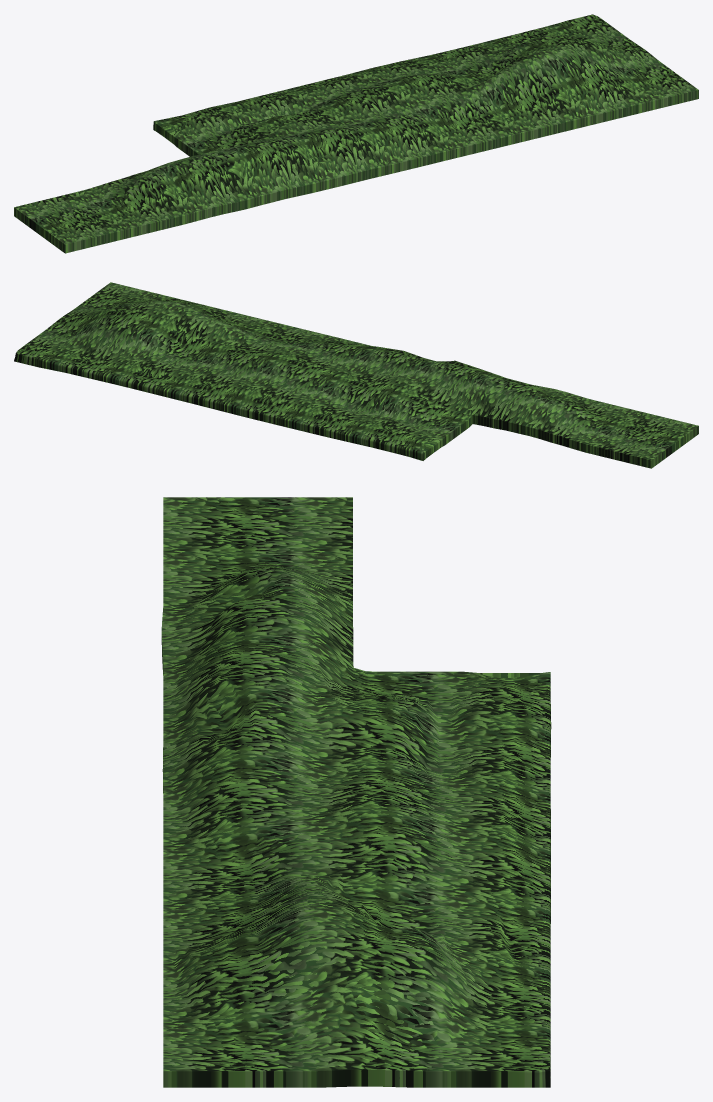
Rendered from Grass_Hill.fbx.
The picture shows the model from 3 angles, top to bottom: view 1: azimuth 30°, elevation 25°; view 2: azimuth 150°, elevation 25°; view 3: azimuth 270°, elevation 25°; orthographic projection. The views are drawn at different scales.
Parts seen in each view (by area): view 1: Plane.148; view 2: Plane.148; view 3: Plane.148.
Part boxes in pixels (<box>): Plane.148: <box>14,14,698,253</box>; Plane.148: <box>14,282,698,468</box>; Plane.148: <box>161,497,551,1087</box>.
Bounding box in the file's own units: 670 × 41.86 × 192.
